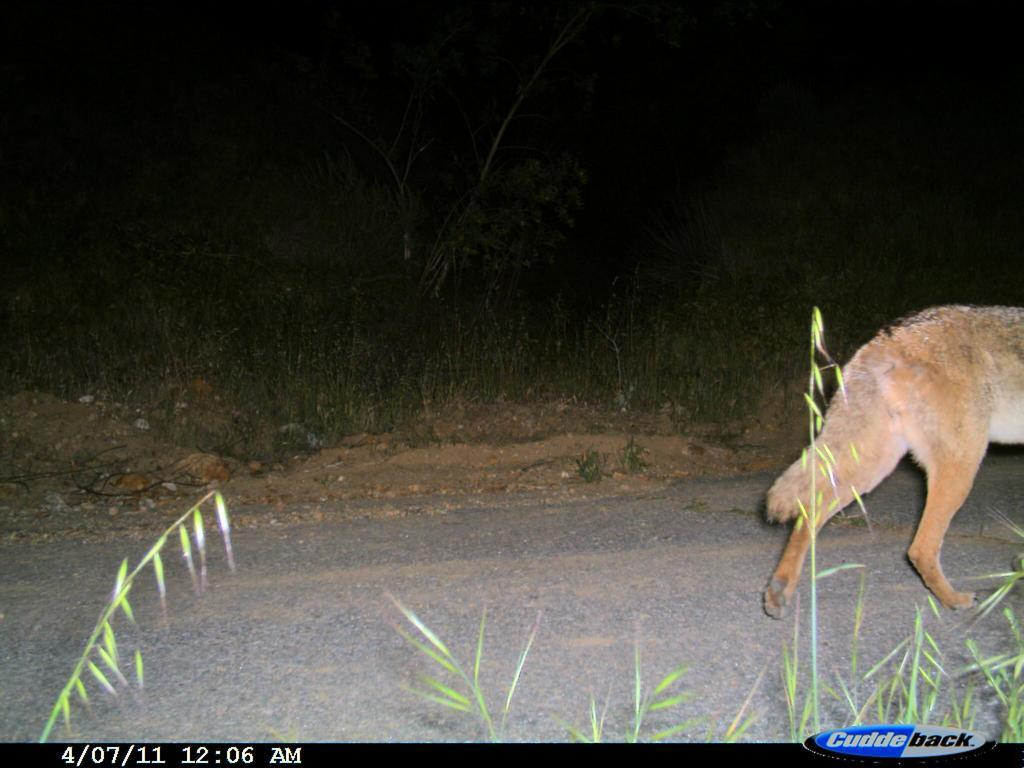coyote: (756, 297, 1024, 628)
